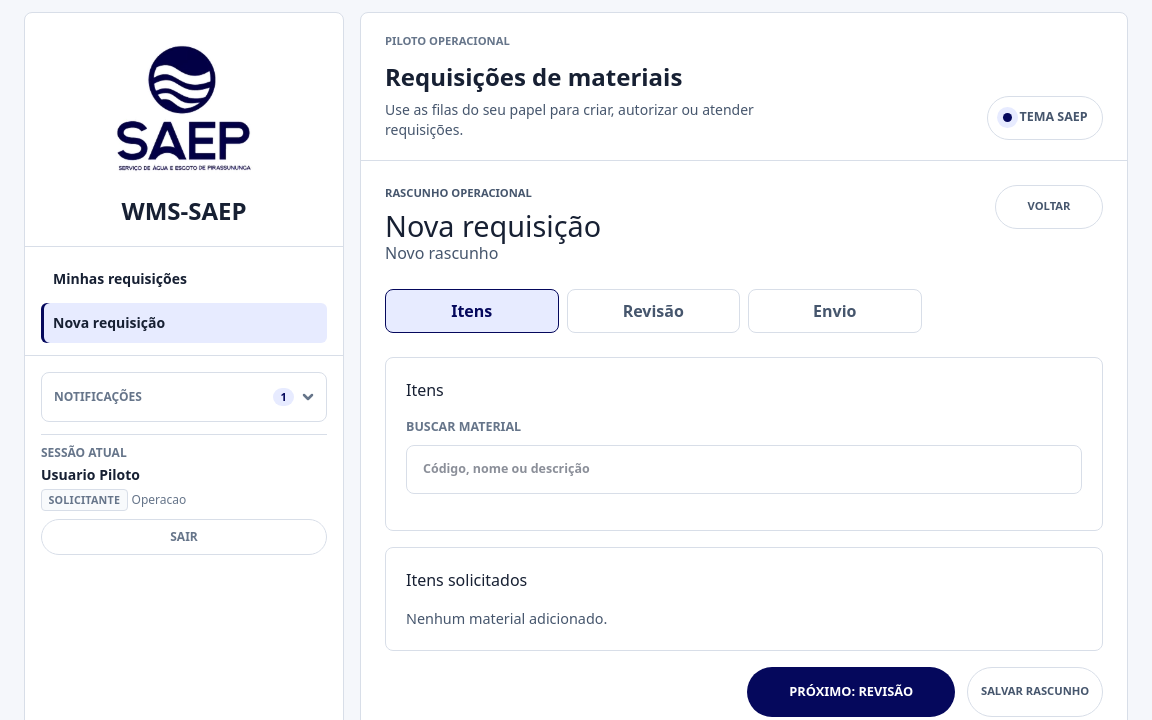
Test: frontend pilot router › shows material stock and blocks adding material without positive stock
Check: the heading "Nova requisição" is shown, box [385,210,601,241]
Check: the heading "Itens" is shown, box [406,379,444,401]
Type "caneta" into the field labelled "Buscar material" at (744, 470), box [406,445,1082,494]
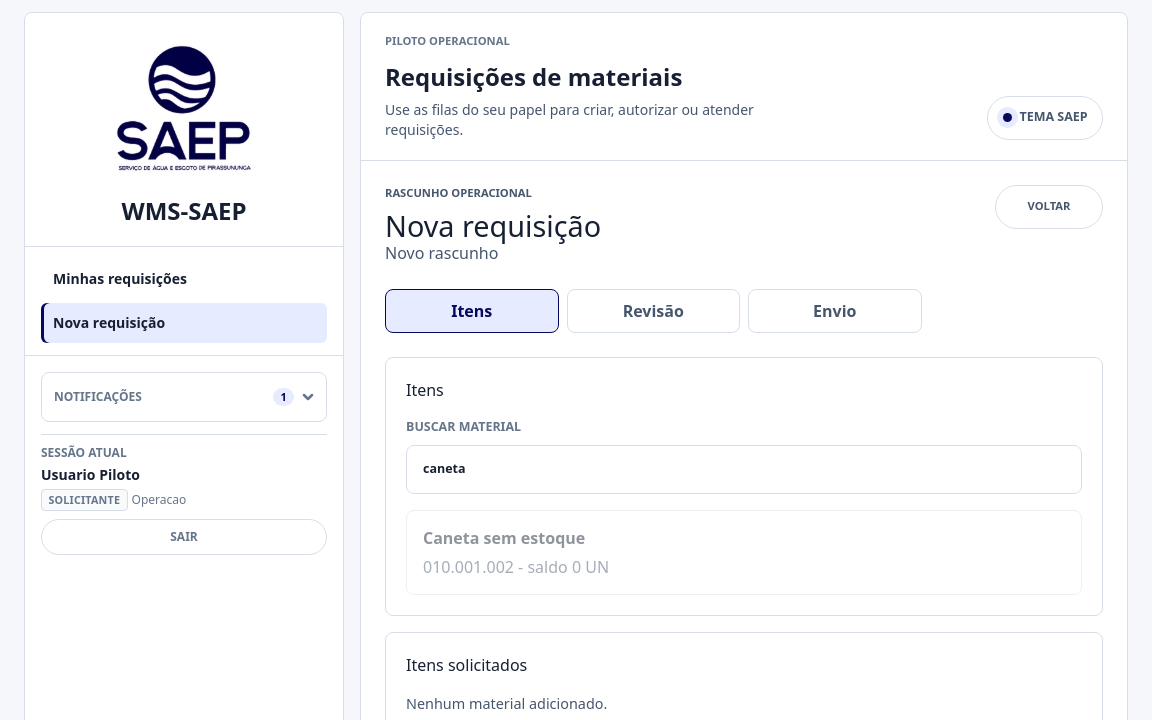
Check: the text "Nenhum material adicionado." is shown, box [406,694,607,713]
Check: the button with aria-label "Adicionar Caneta sem estoque" is disabled, box [406,510,1082,595]
Check: the text "010.001.002 - saldo 0 UN" is shown, box [423,556,609,578]
